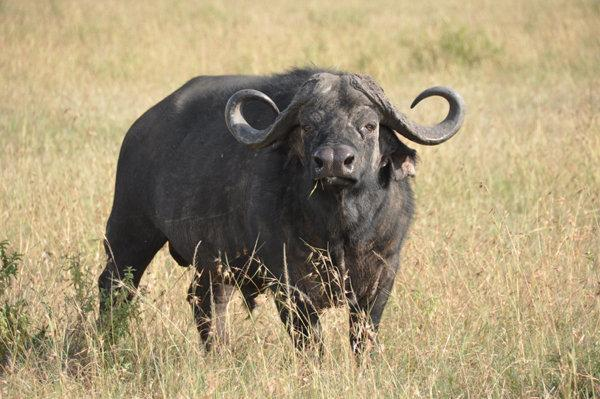Buffalo: (62, 0, 512, 399)
